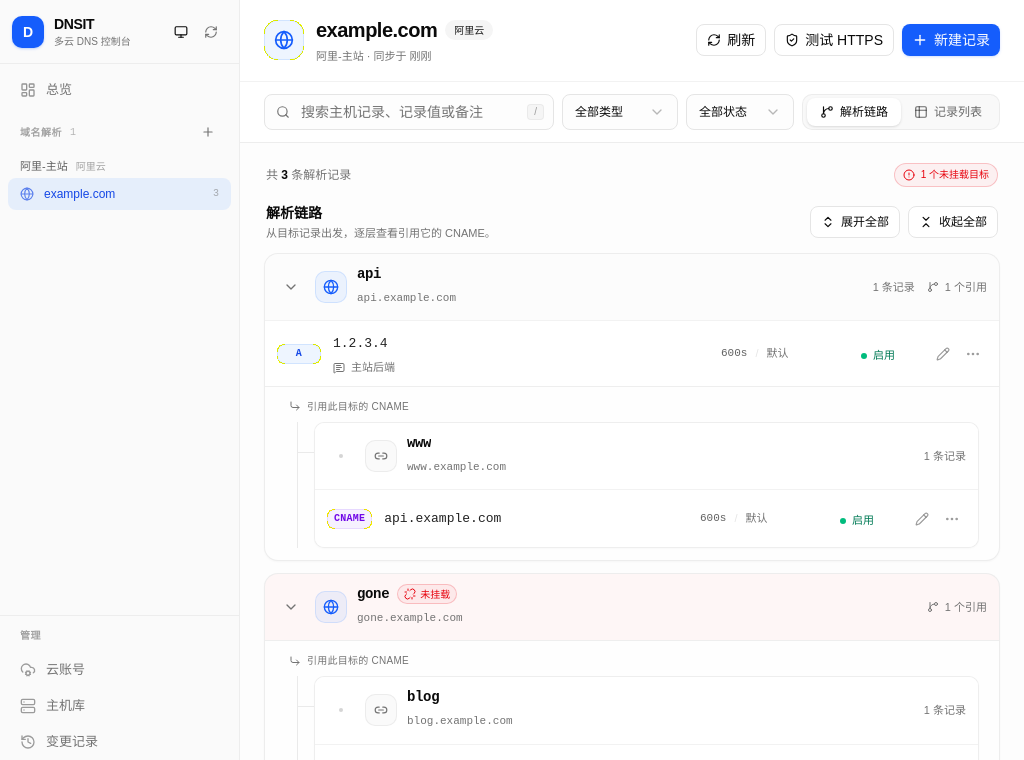
web app › collapses and expands all CNAME branches together
Expected: the button "www" is shown, [407,433,431,453]
Click the button "收起全部" at (953, 222), box [908,206,998,238]
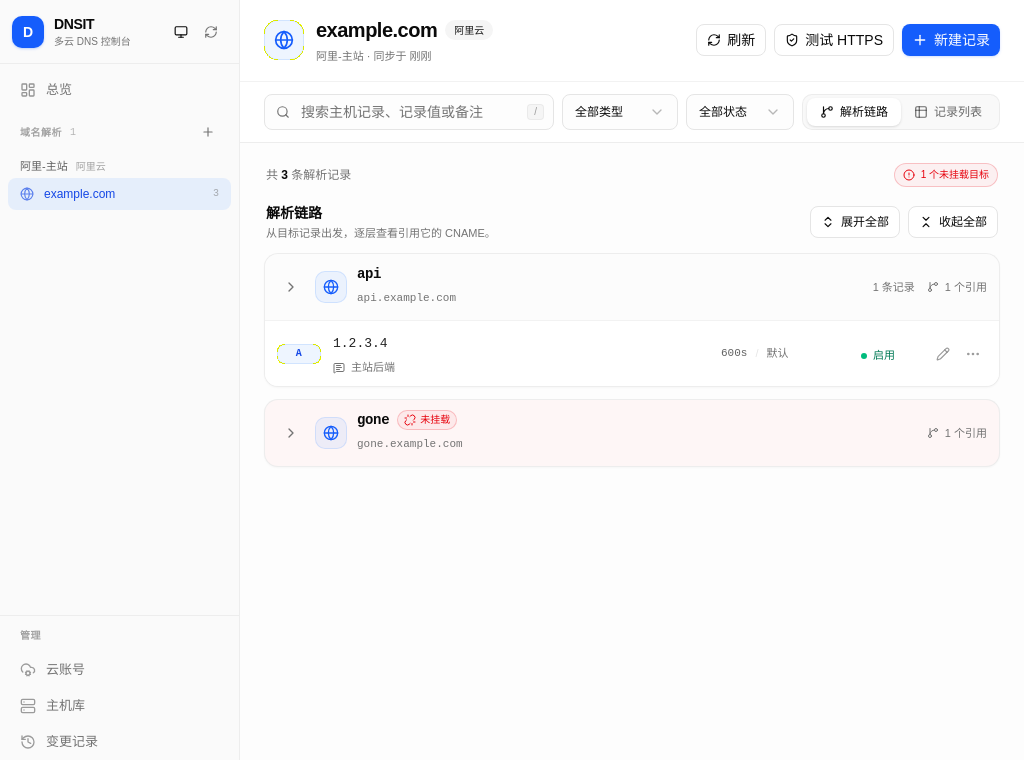
Expected: the button "www" is gone
Expected: the button "blog" is gone
Click the button "展开全部" at (855, 222), box [810,206,900,238]
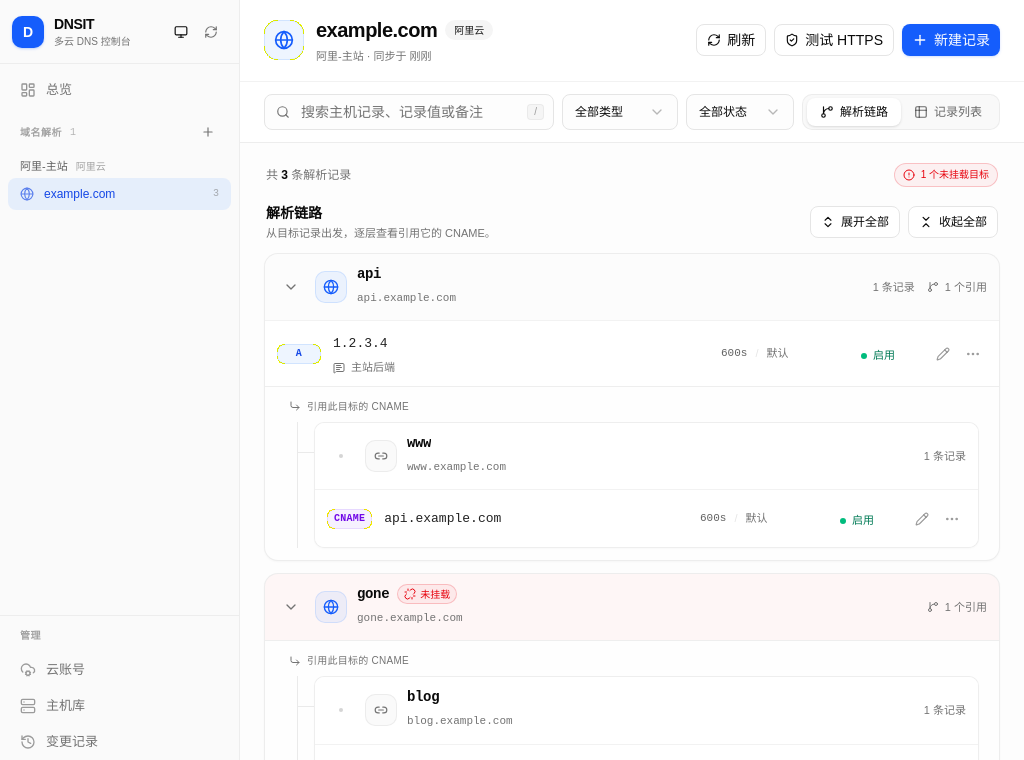
Expected: the button "www" is shown, [407,433,431,453]
Expected: the button "blog" is shown, [407,687,439,707]
